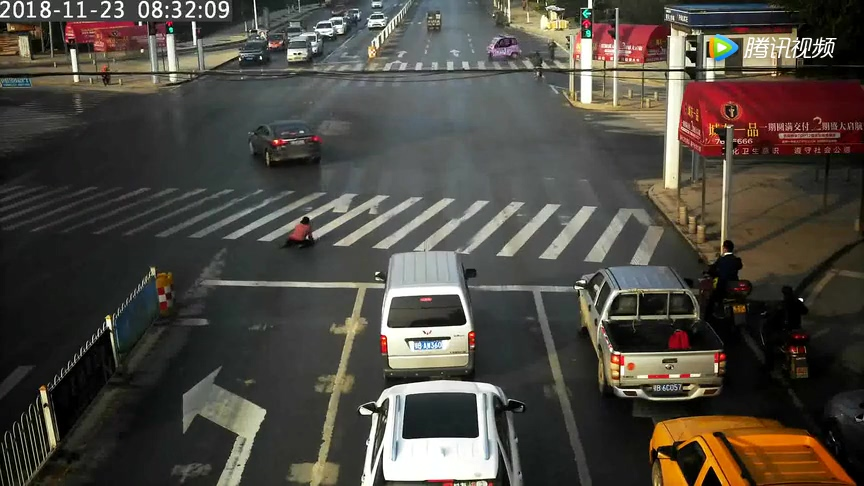car: (562, 258, 743, 425), (360, 245, 509, 384), (352, 372, 524, 486), (239, 116, 334, 173), (237, 33, 279, 71), (280, 33, 320, 71), (484, 29, 526, 63), (305, 14, 340, 43), (325, 11, 351, 43), (423, 6, 445, 32), (367, 7, 387, 33)
person: (770, 279, 813, 380), (710, 232, 744, 329), (282, 214, 326, 256), (525, 50, 550, 80), (542, 36, 562, 65), (97, 66, 118, 90)
